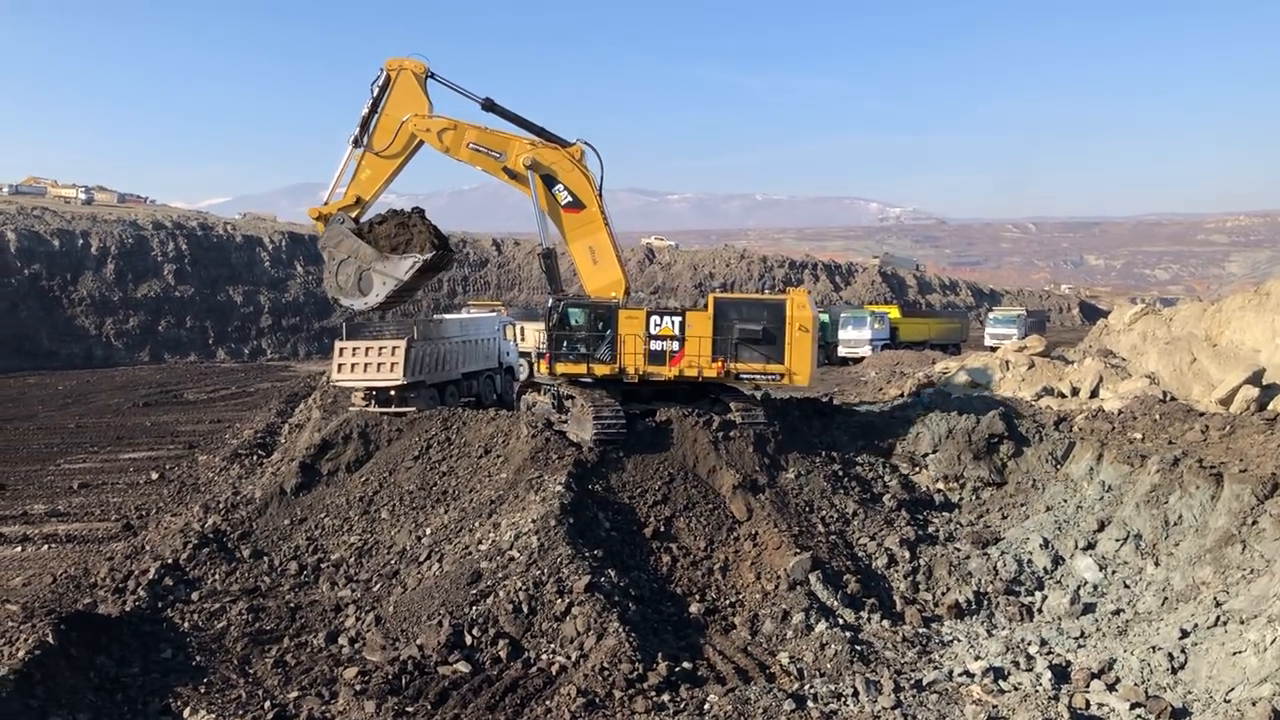full: (300, 208, 461, 316)
